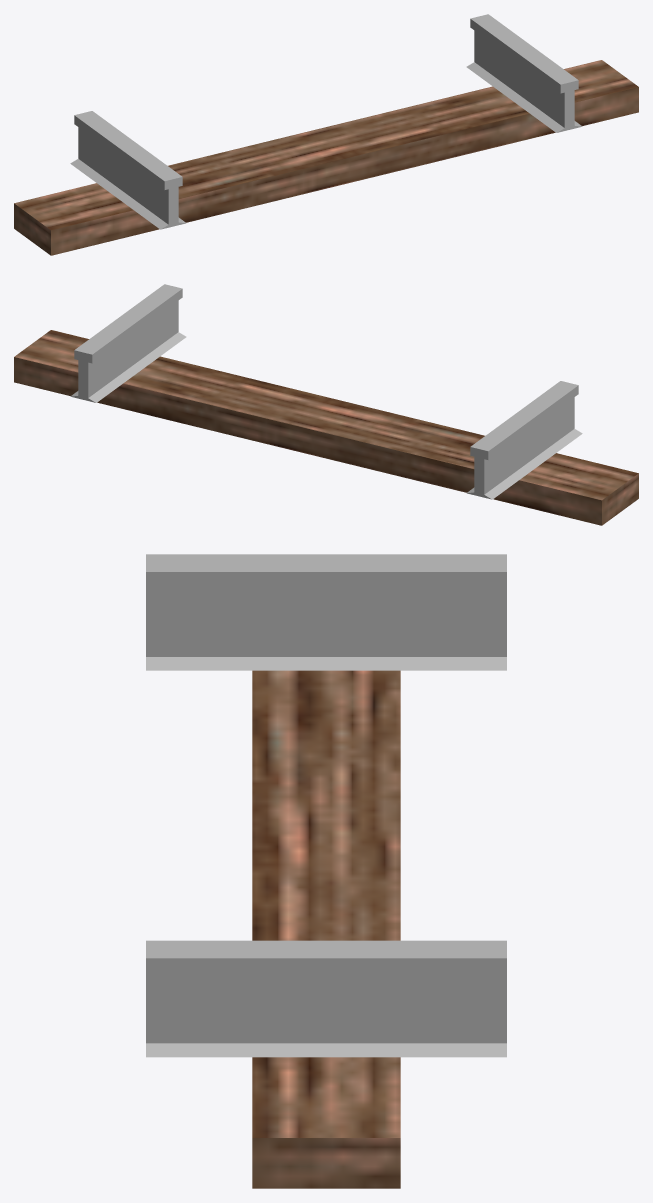
The model's file is dc_metro_rail_2.obj.
The picture shows the model from 3 angles, top to bottom: view 1: azimuth 30°, elevation 25°; view 2: azimuth 150°, elevation 25°; view 3: azimuth 270°, elevation 25°; orthographic projection. The views are drawn at different scales.
Visible parts, largest first — view 1: cube; view 2: cube; view 3: cube.
Part boxes in pixels (x1=…): cube: x1=14, y1=14, x2=638, y2=255; cube: x1=14, y1=284, x2=638, y2=525; cube: x1=146, y1=554, x2=506, y2=1188.
Size of the model in its own units: 2.23 by 0.2641 by 0.5938.
2 materials, 2 textured.
